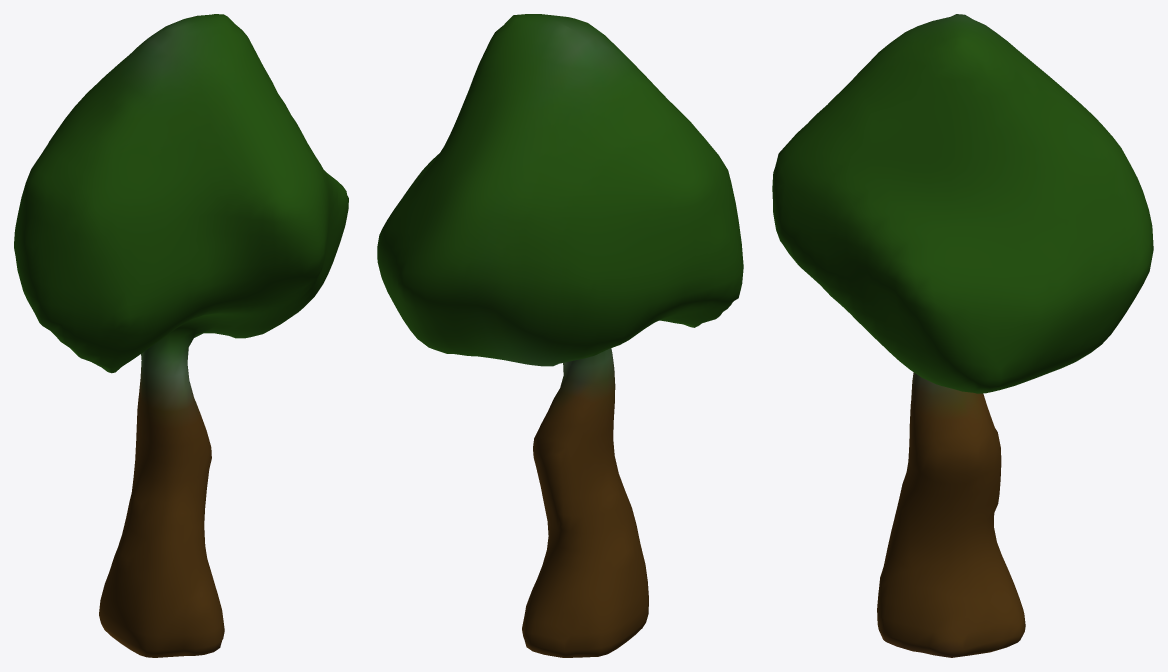
The model's file is Blobbed_3.glb.
3 renders of one model, left to right at view 1: azimuth 30°, elevation 25°; view 2: azimuth 150°, elevation 25°; view 3: azimuth 270°, elevation 25°, orthographic. The views are drawn at different scales.
Parts seen in each view (by area): view 1: Blobbed_3; view 2: Blobbed_3; view 3: Blobbed_3.
Boxes of the visible parts, left/top/right/bottom form: Blobbed_3: left=14, top=14, right=348, bottom=657; Blobbed_3: left=377, top=14, right=743, bottom=657; Blobbed_3: left=772, top=14, right=1153, bottom=657.
Size of the model in its own units: 2.33 by 4.26 by 2.32.
